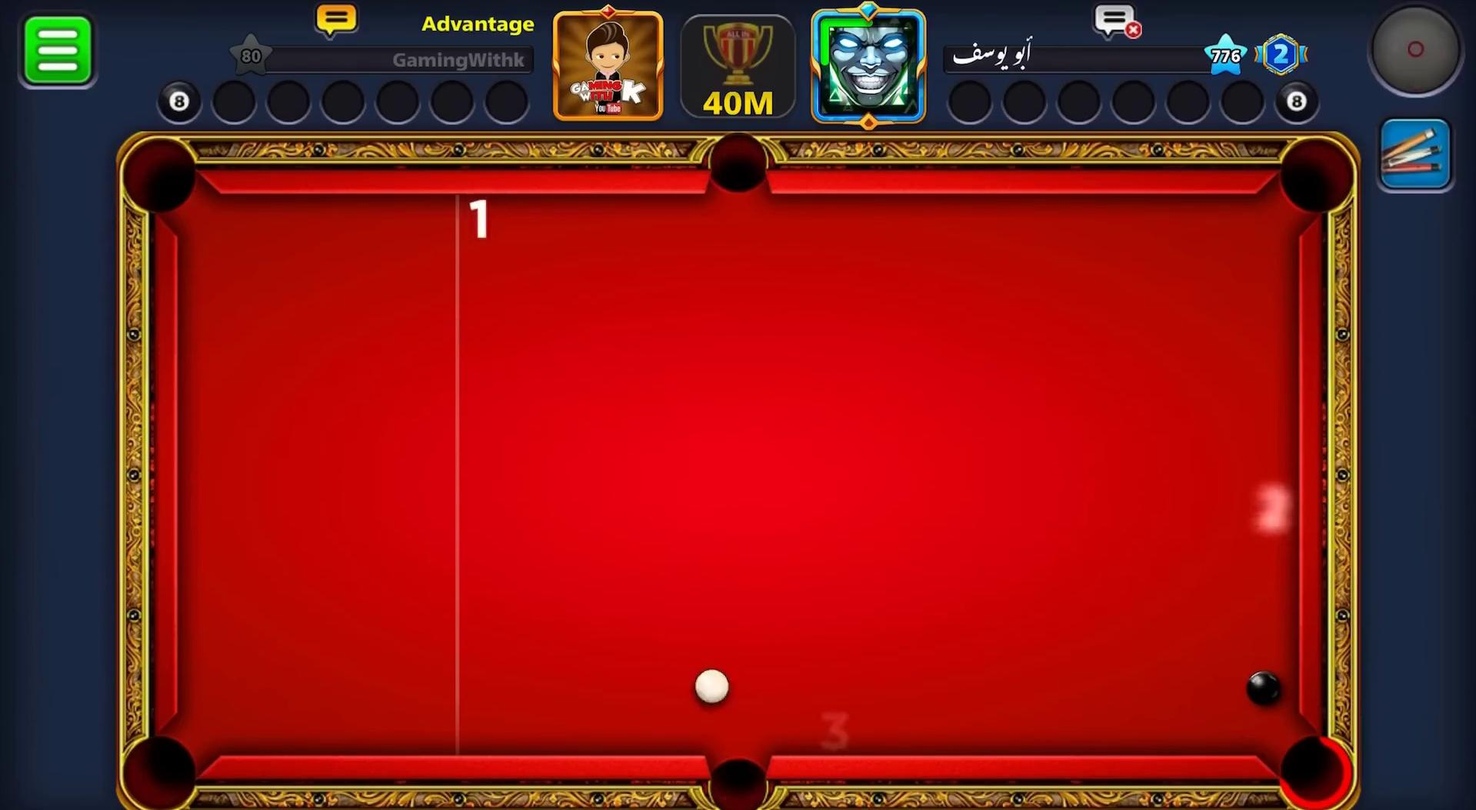Ball: (1238, 662, 1291, 709)
Hole: (1260, 718, 1368, 809), (690, 742, 783, 809), (1278, 136, 1355, 216), (122, 135, 198, 212), (122, 734, 198, 809), (707, 132, 769, 193)
Play_Area: (177, 193, 1297, 756)
Spin: (1365, 2, 1471, 102)
White: (685, 662, 735, 709)
